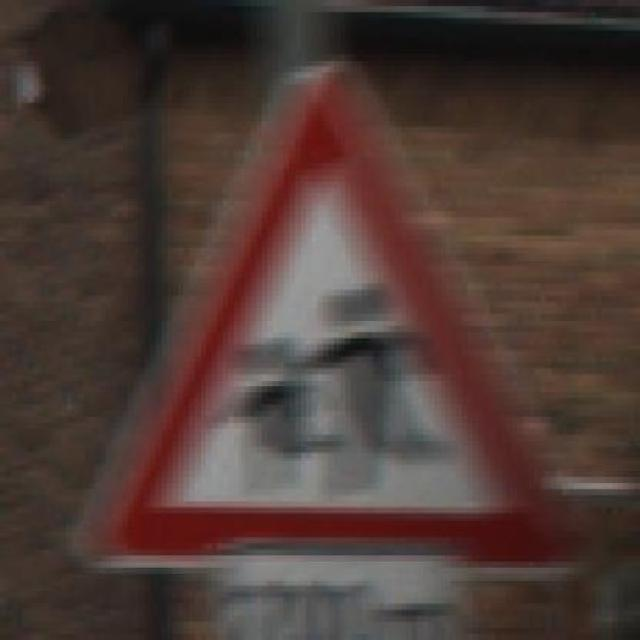Beware of children: (63, 53, 592, 579)
